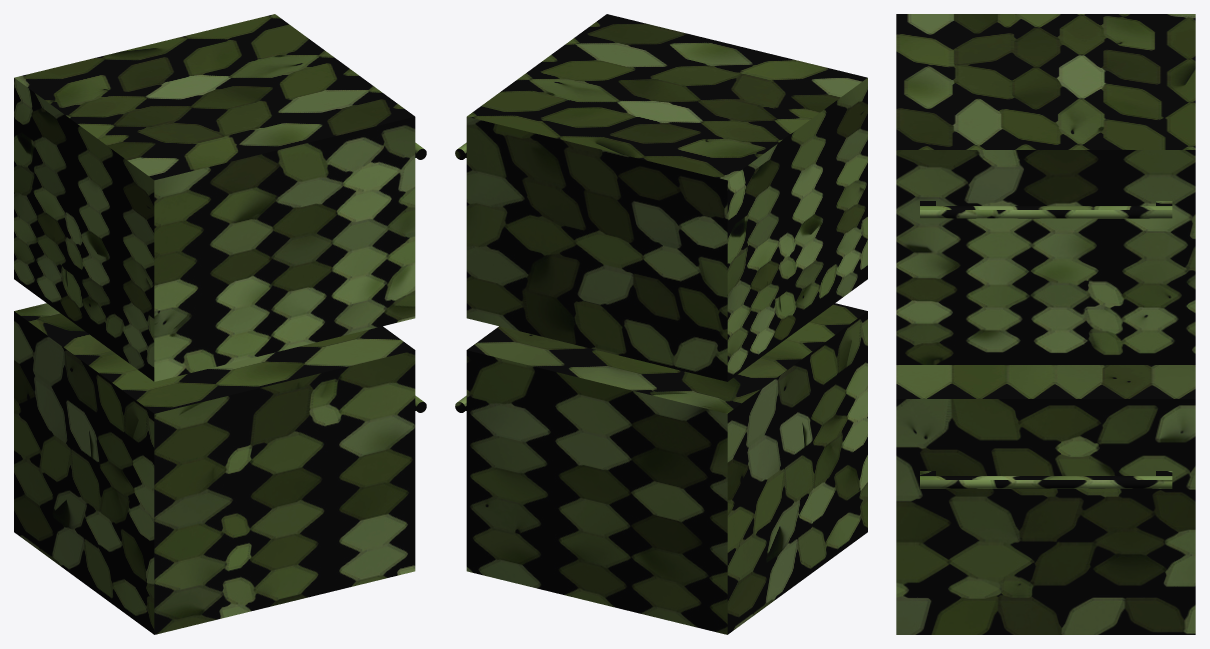
The model's file is modern_scandinavian_kitchen_island_3.obj.
The picture shows the model from 3 angles, left to right: view 1: azimuth 30°, elevation 25°; view 2: azimuth 150°, elevation 25°; view 3: azimuth 270°, elevation 25°; orthographic projection. The views are drawn at different scales.
Size of the model in its own units: 0.9636 by 1.48 by 0.8261.
